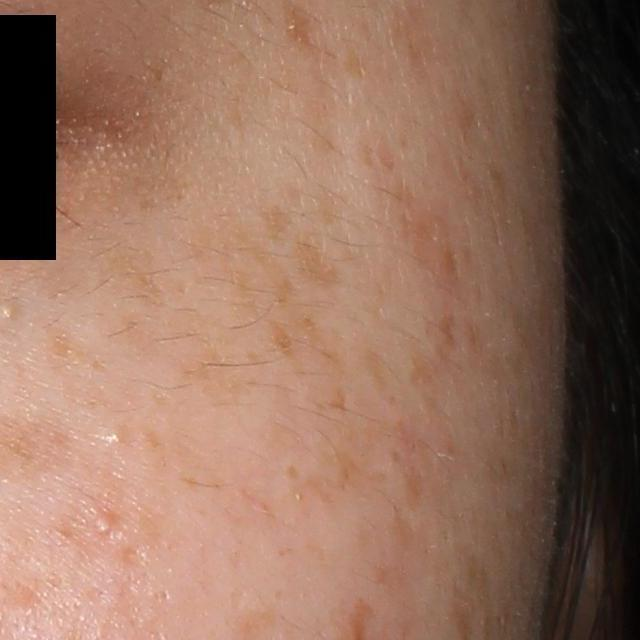melasma: (102, 244, 173, 314), (297, 311, 348, 376), (325, 446, 384, 497), (294, 241, 337, 290), (360, 348, 393, 400), (257, 204, 302, 242), (402, 351, 442, 391), (271, 320, 301, 367), (266, 269, 299, 306), (435, 308, 459, 354), (324, 385, 352, 418), (285, 463, 301, 483)
